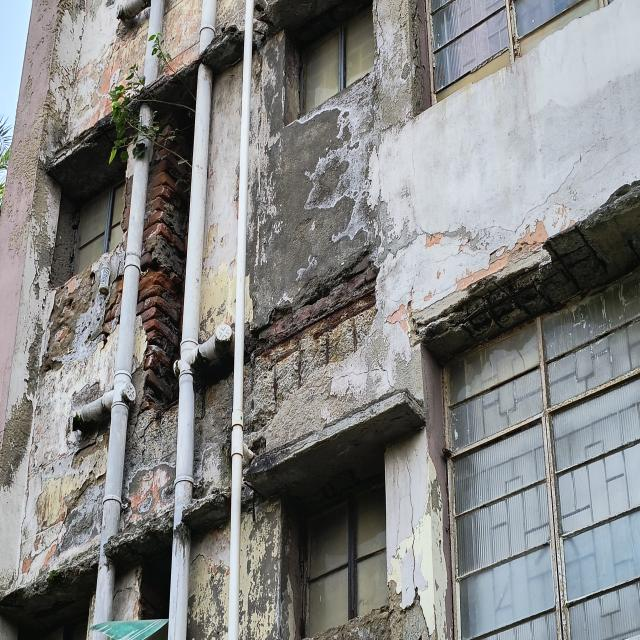Scaling: (250, 73, 375, 333)
Spalling: (409, 181, 640, 360), (244, 269, 376, 458), (126, 172, 187, 510), (194, 354, 232, 497)
